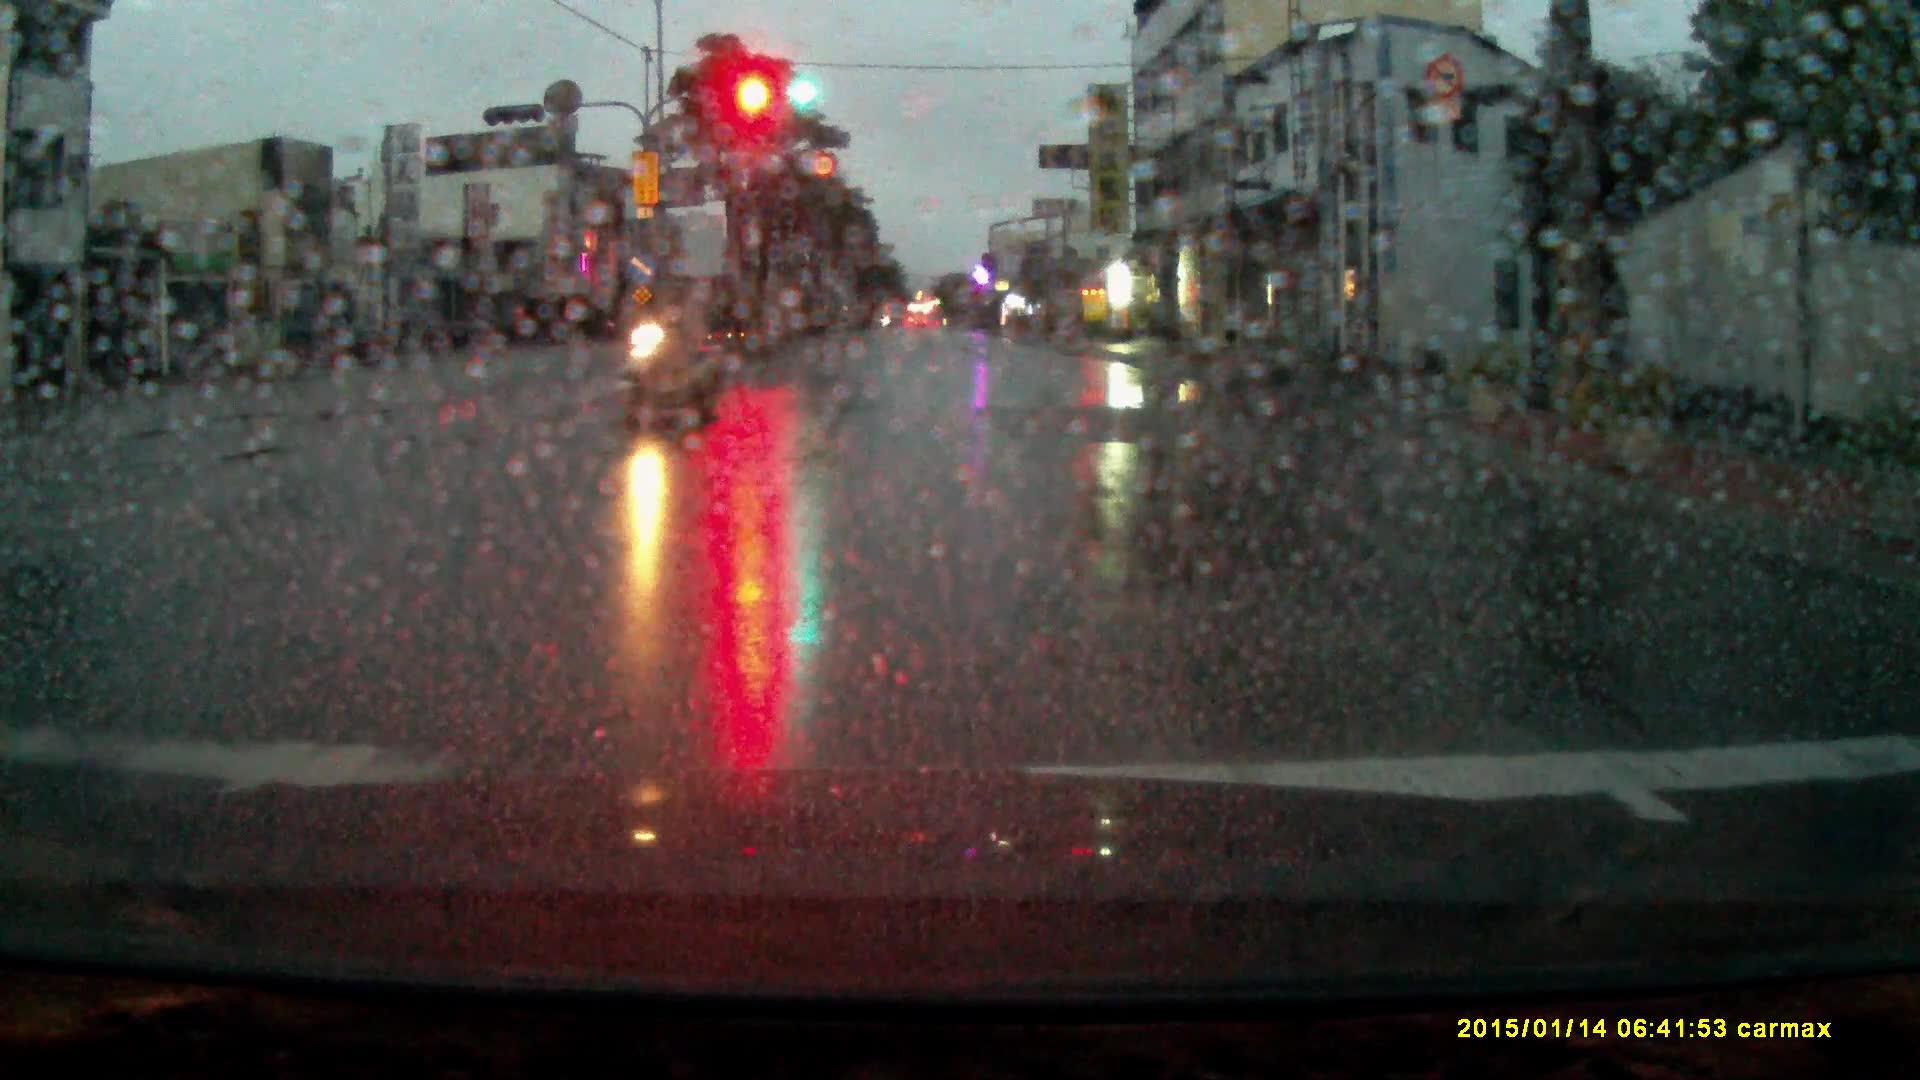rider: (611, 265, 727, 430)
